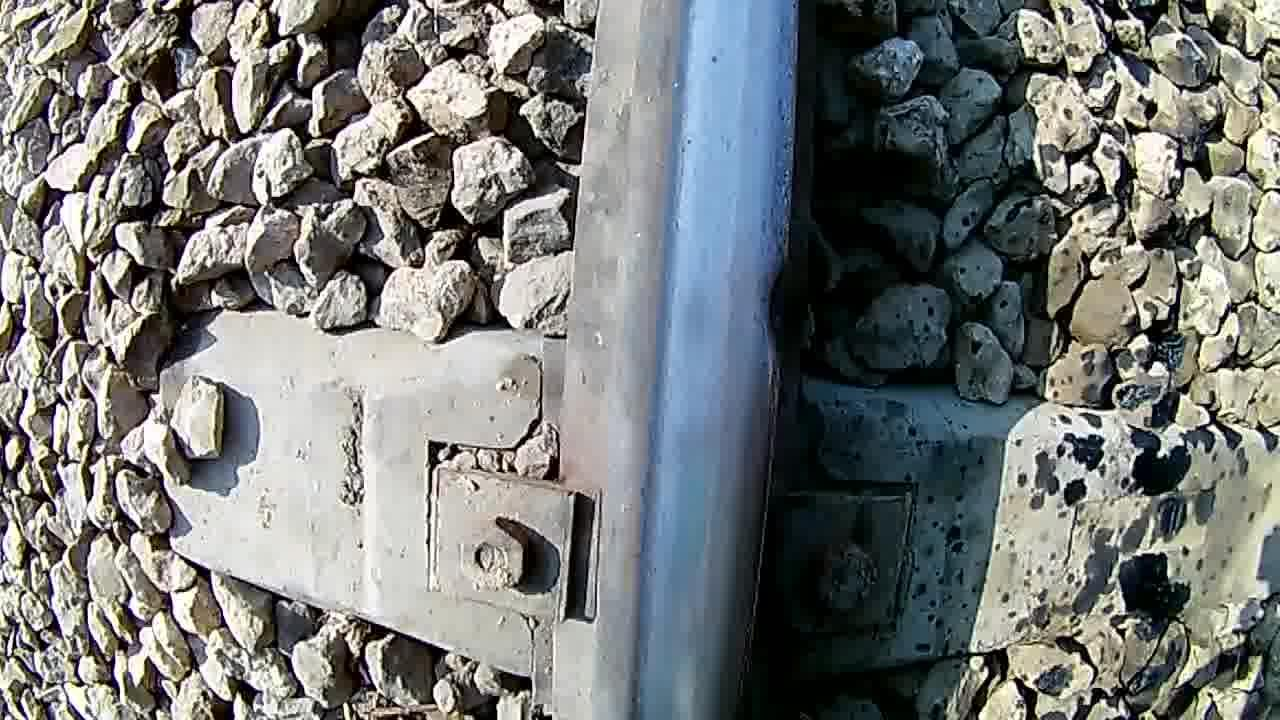crack: (743, 233, 795, 387)
